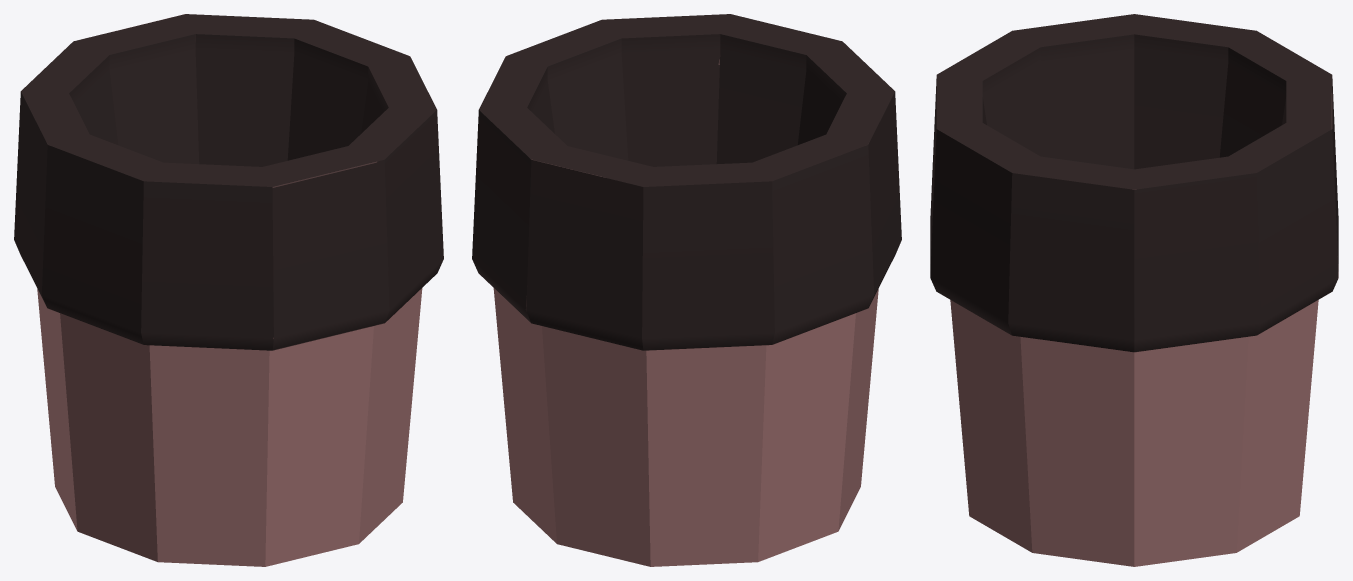
File: Trash_Garbage_Model.fbx
3 views of the same model, side by side, from view 1: azimuth 30°, elevation 25°; view 2: azimuth 150°, elevation 25°; view 3: azimuth 270°, elevation 25° (orthographic).
Parts seen in each view (by area): view 1: cestino; view 2: cestino; view 3: cestino.
Part boxes in pixels (x1,y1,x2,y2): cestino: (14, 14, 443, 566); cestino: (472, 14, 901, 566); cestino: (930, 14, 1338, 566).
Size of the model in its own units: 0.0207 by 0.0208 by 0.0196.
1 material, 1 textured.
